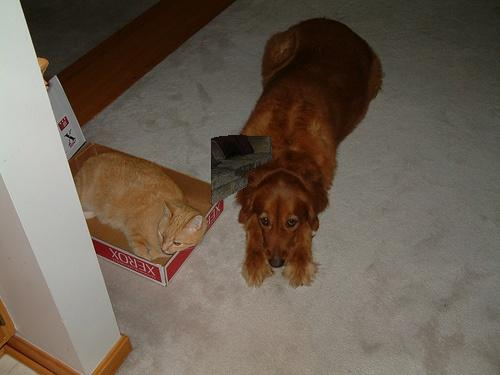tampered: (212, 135, 272, 204)
